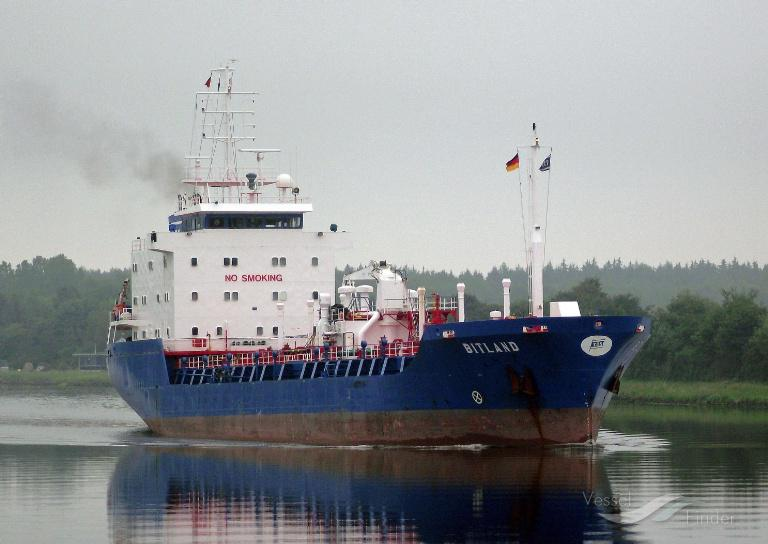OCR: (454, 336, 523, 359)
